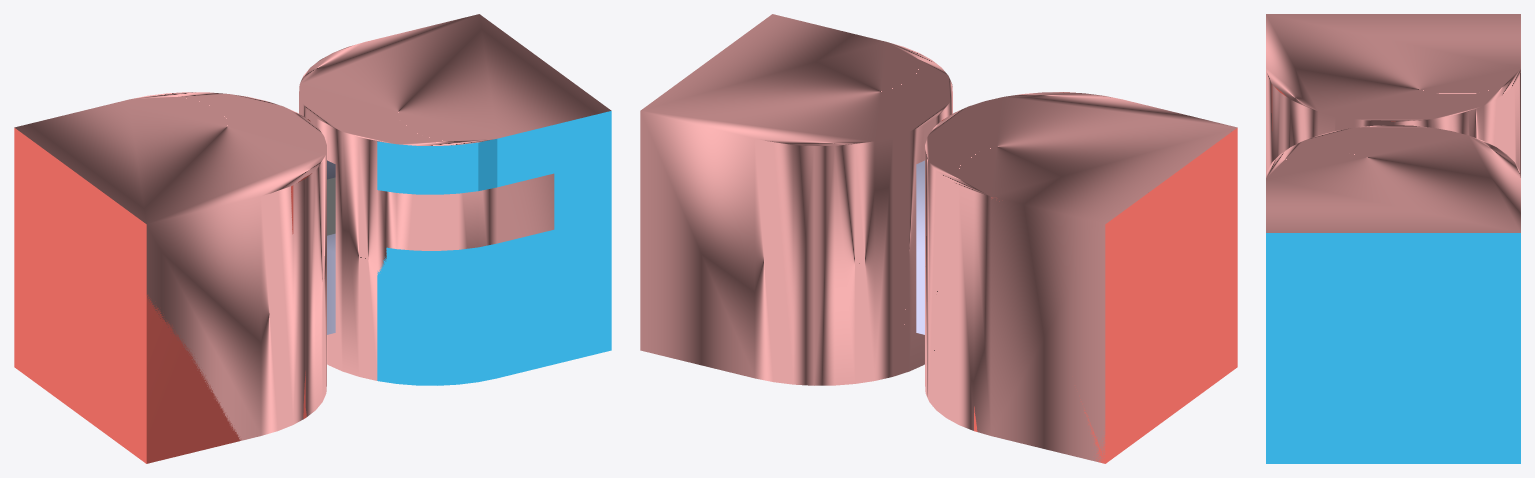
The model's file is dtto.dae.
The picture shows the model from 3 angles, left to right: view 1: azimuth 30°, elevation 25°; view 2: azimuth 150°, elevation 25°; view 3: azimuth 270°, elevation 25°; orthographic projection. The views are drawn at different scales.
Parts seen in each view (by area): view 1: Node_0x7f18bc6e31c0 (×5); view 2: Node_0x7f18bc6e31c0 (×4); view 3: Node_0x7f18bc6e31c0 (×3).
Boxes of the visible parts, bbox=[...] form: Node_0x7f18bc6e31c0 (×5): bbox=[14, 14, 611, 463]; Node_0x7f18bc6e31c0 (×4): bbox=[640, 14, 1237, 463]; Node_0x7f18bc6e31c0 (×3): bbox=[1266, 14, 1520, 463].
Size of the model in its own units: 0.128 by 0.063 by 0.063.
